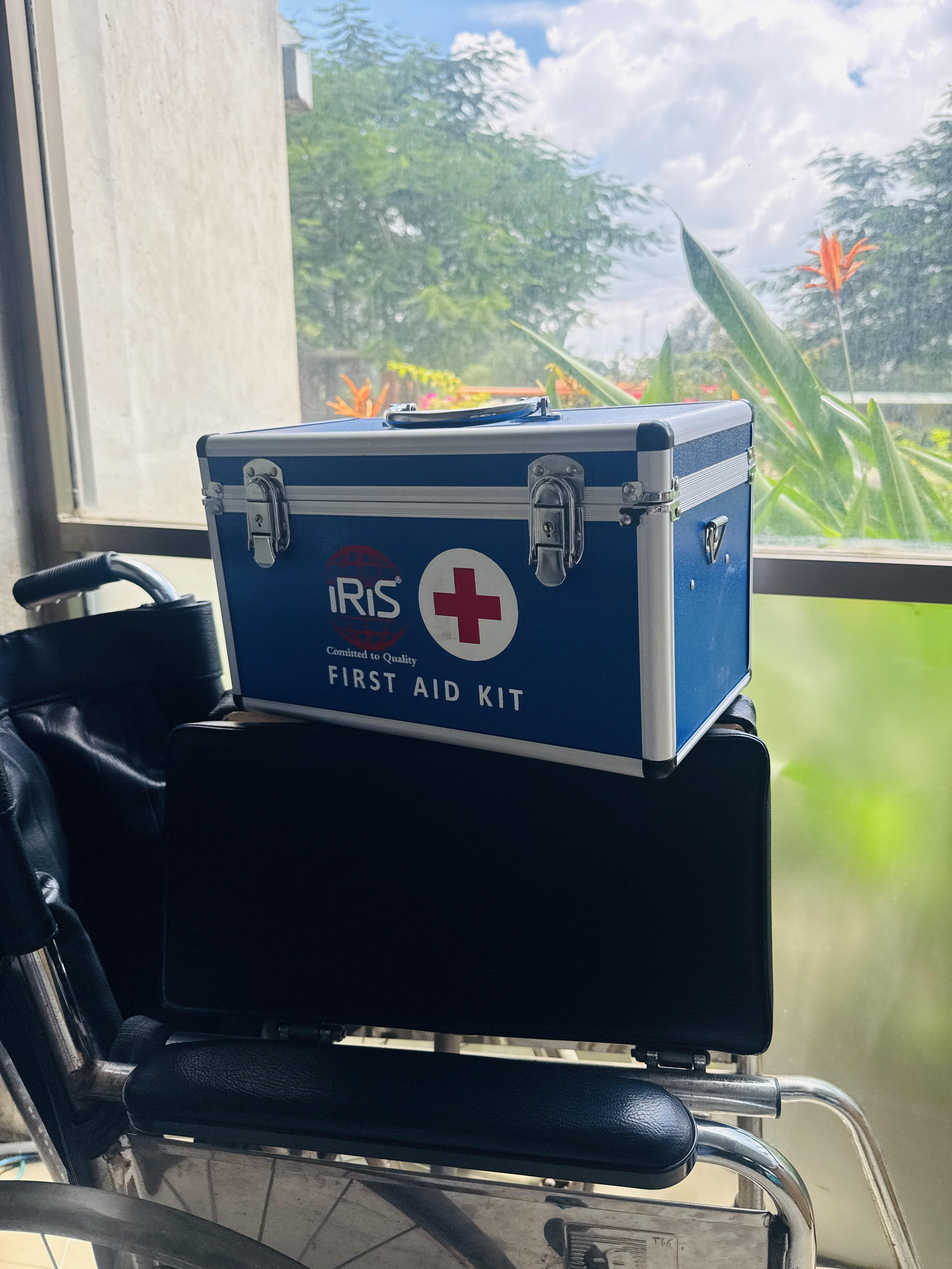FirstAidBox: (165, 376, 787, 798)
